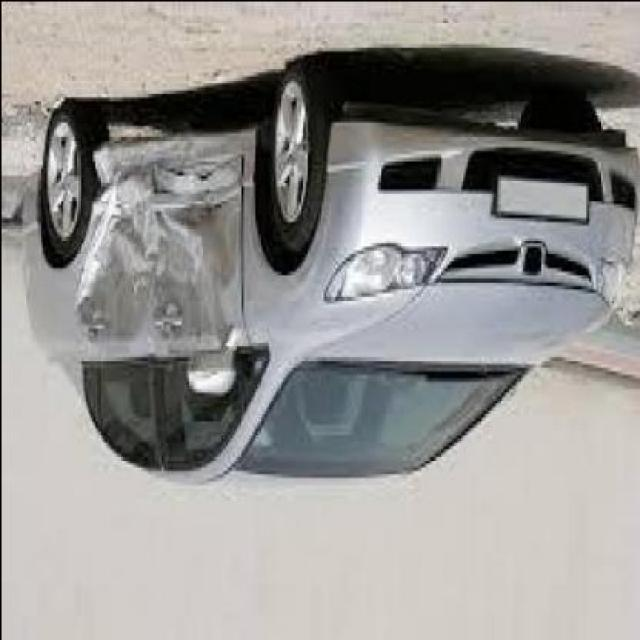damage: (66, 130, 256, 366)
